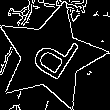P_SW: (21, 25, 80, 87)
